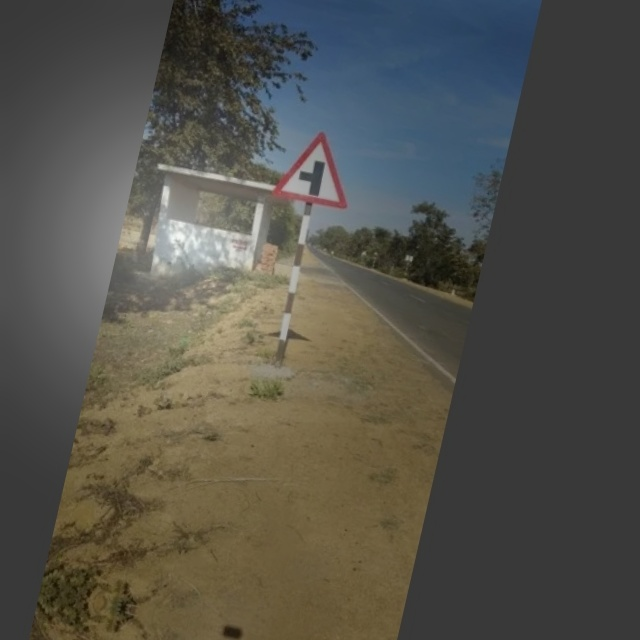Side_Road_Left: (268, 120, 365, 217)
